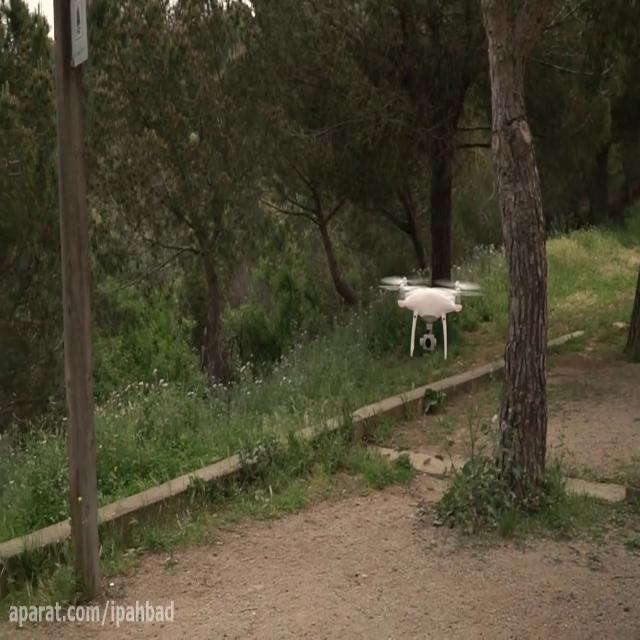drone: (377, 276, 485, 357)
